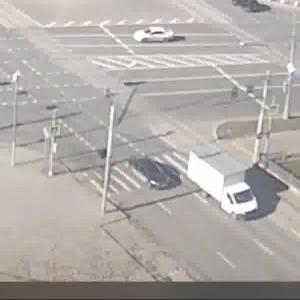car: (186, 147, 259, 221), (120, 153, 172, 194), (132, 27, 180, 46), (226, 1, 267, 17)
